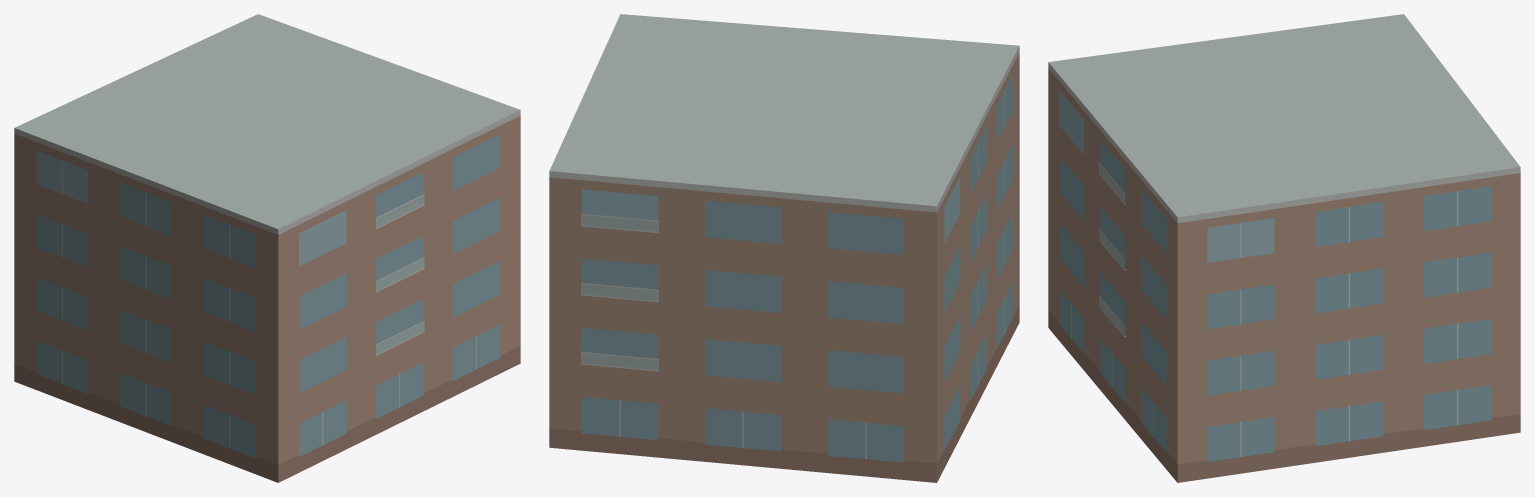
The model's file is survey-upis-32687535.glb.
The picture shows the model from 3 angles, left to right: view 1: azimuth 30°, elevation 25°; view 2: azimuth 150°, elevation 25°; view 3: azimuth 270°, elevation 25°; orthographic projection. The views are drawn at different scales.
Visible parts, largest first — view 1: survey-upis-32687535.tmp; view 2: survey-upis-32687535.tmp; view 3: survey-upis-32687535.tmp.
Boxes of the visible parts, <box> form: survey-upis-32687535.tmp: <box>14,14,520,482</box>; survey-upis-32687535.tmp: <box>549,14,1019,482</box>; survey-upis-32687535.tmp: <box>1048,14,1520,482</box>.
Bounding box in the file's own units: 18.09 × 11 × 17.75.
